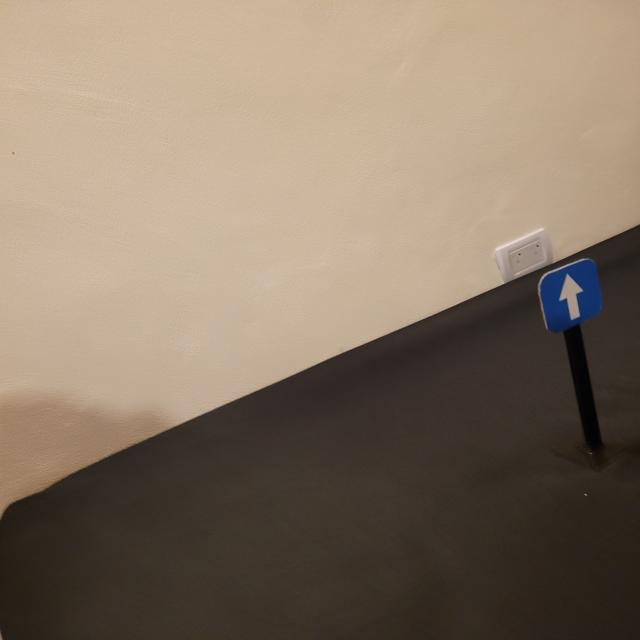one_way: (536, 258, 602, 336)
